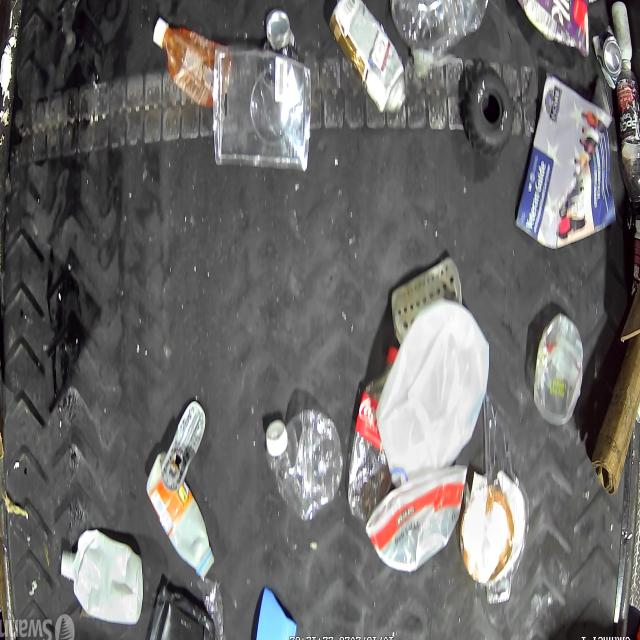can: (328, 0, 406, 116), (264, 8, 298, 60), (602, 34, 622, 78)
milk_jug: (378, 302, 488, 484)
plastic_bottle: (264, 408, 344, 524), (344, 372, 390, 520), (617, 70, 640, 211)
